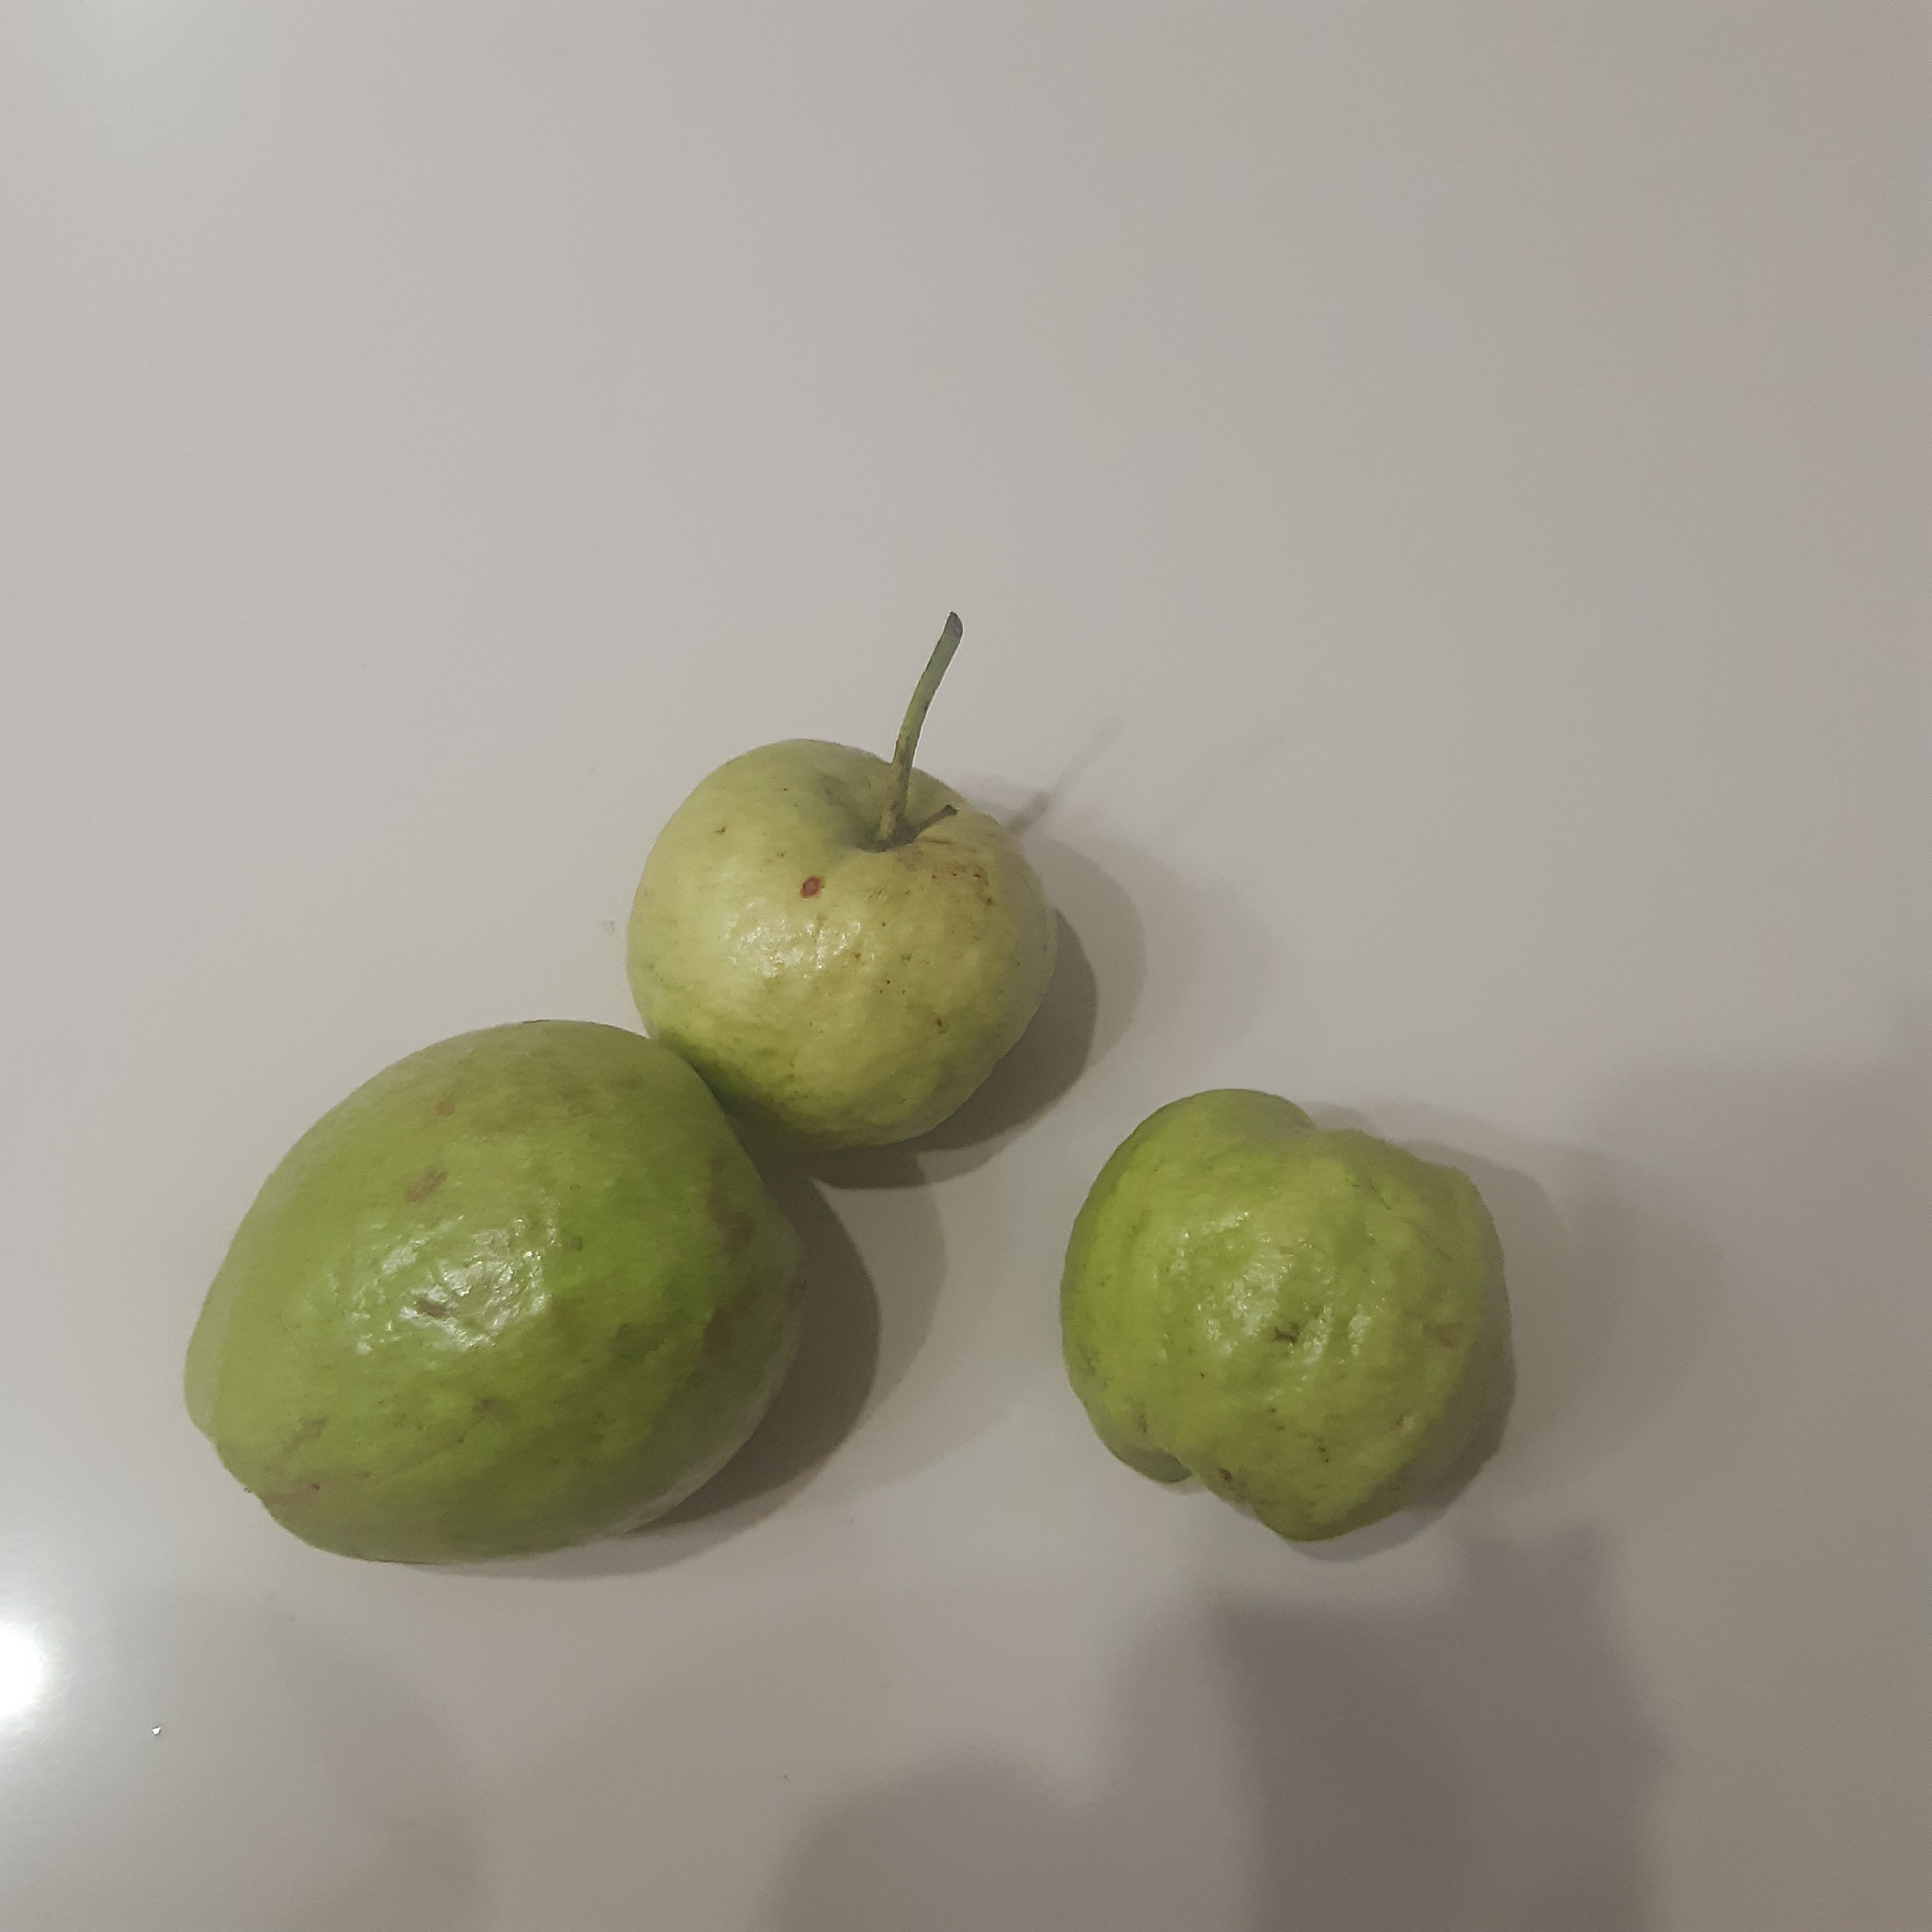Oi: (182, 1017, 812, 1566), (1058, 1088, 1509, 1541), (623, 740, 1051, 1150)
